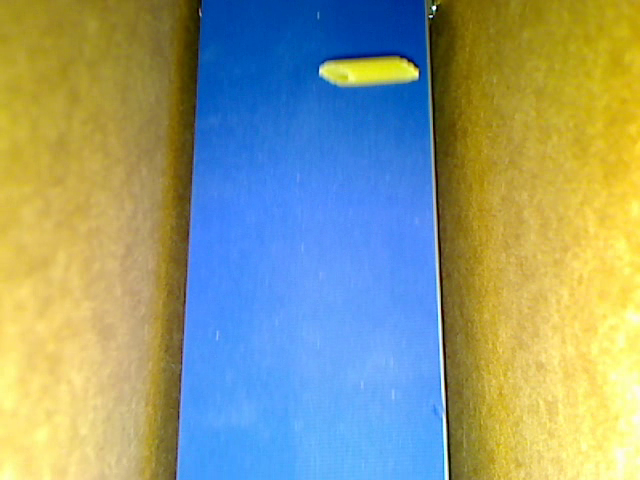penne: (318, 56, 418, 85)
